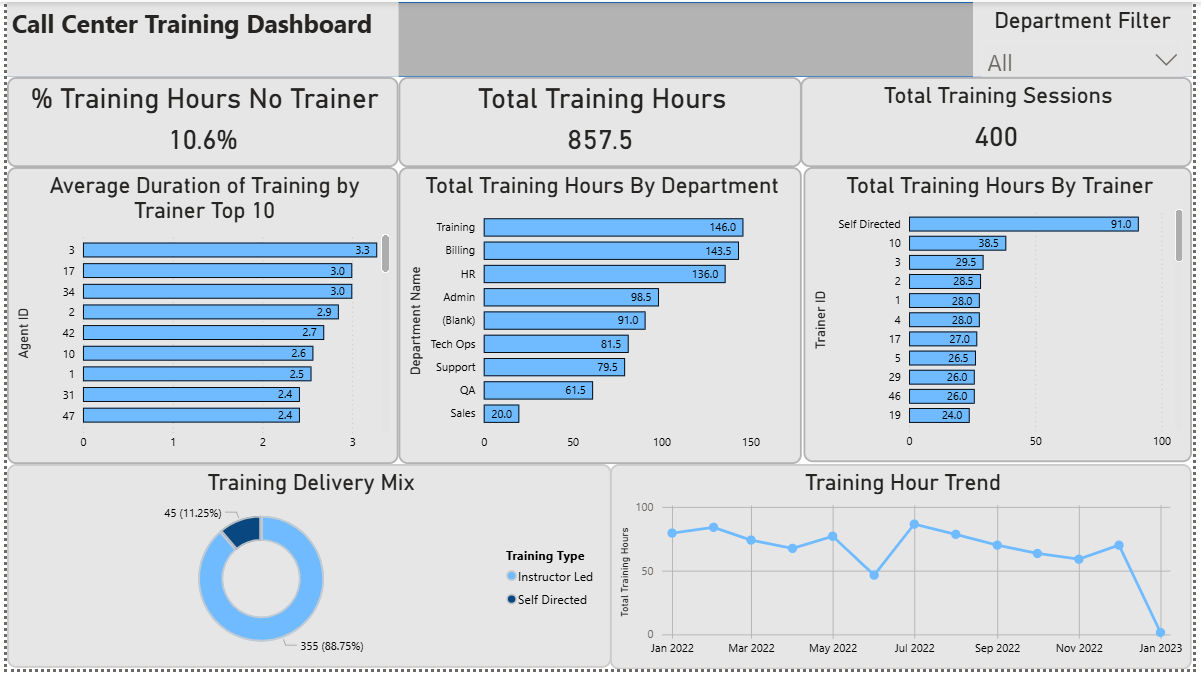

Layout of this report page (visuals, bound fields, positions):
{"tool":"powerbi","page":{"name":"Page 1","canvas":[1280,720],"ordinal":0},"visuals":[{"type":"card","title":"Total Training Hours","fields":{"Values":["call_center training_sessions.Total Training Hours"]},"box":[421.8,81,435.6,97.2],"z":0},{"type":"card","title":"Total Training Sessions","fields":{"Values":["call_center training_sessions.Total Training Sessions"]},"box":[856.6,81,422.6,97.2],"z":1000},{"type":"card","title":"% Training Hours No Trainer","fields":{"Values":["call_center training_sessions.% Training Hours Without Trainer"]},"box":[0,81,422.6,97.2],"z":2000},{"type":"clusteredBarChart","title":"Total Training Hours By Department","fields":{"Y":["call_center training_sessions.Total Training Hours"],"Category":["call_center departments.dept_name"]},"box":[422.6,178.1,435.6,320.6],"z":3000},{"type":"clusteredBarChart","title":"Total Training Hours By Trainer","fields":{"Y":["call_center training_sessions.Total Training Hours"],"Category":["call_center training_sessions.trainer_id"]},"box":[859.8,178.1,419.4,319],"z":4000},{"type":"clusteredBarChart","title":"Average Duration of Training by Trainer Top 10","fields":{"Y":["call_center training_sessions.Average Session Length (Hours)"],"Category":["call_center agents.agent_id"]},"box":[0,178.1,422.6,320.6],"z":5000},{"type":"donutChart","title":"Training Delivery Mix","fields":{"Category":["call_center training_sessions.Training Type"],"Y":["CountNonNull(call_center training_sessions.training_id)"]},"box":[0,498.7,652.5,220.2],"z":6000},{"type":"lineChart","title":"Training Hour Trend","fields":{"Y":["call_center training_sessions.Total Training Hours"],"Category":["call_center training_sessions.training_date.Variation.Date Hierarchy.Year","call_center training_sessions.training_date.Variation.Date Hierarchy.Month"]},"box":[650.9,498.7,628.3,221.8],"z":7000},{"type":"shape","box":[0,0,1279.2,81],"z":8000},{"type":"slicer","title":"Department Filter","fields":{"Values":["call_center departments.dept_name"]},"box":[1042.8,0,236.4,81],"z":9000},{"type":"textbox","box":[0,0,422.6,81],"z":10000}]}

Visuals, with their boxes in screenshot pixels (x1, y1, x2, y2), scaled from the page's 1280x720 canvas onto the 1201x676 screenshot:
"Total Training Hours" card: 396,76,804,167
"Total Training Sessions" card: 804,76,1200,167
"% Training Hours No Trainer" card: 0,76,397,167
"Total Training Hours By Department" clusteredBarChart: 397,167,805,468
"Total Training Hours By Trainer" clusteredBarChart: 807,167,1200,467
"Average Duration of Training by Trainer Top 10" clusteredBarChart: 0,167,397,468
"Training Delivery Mix" donutChart: 0,468,612,675
"Training Hour Trend" lineChart: 611,468,1200,675
shape: 0,0,1200,76
"Department Filter" slicer: 978,0,1200,76
textbox: 0,0,397,76
